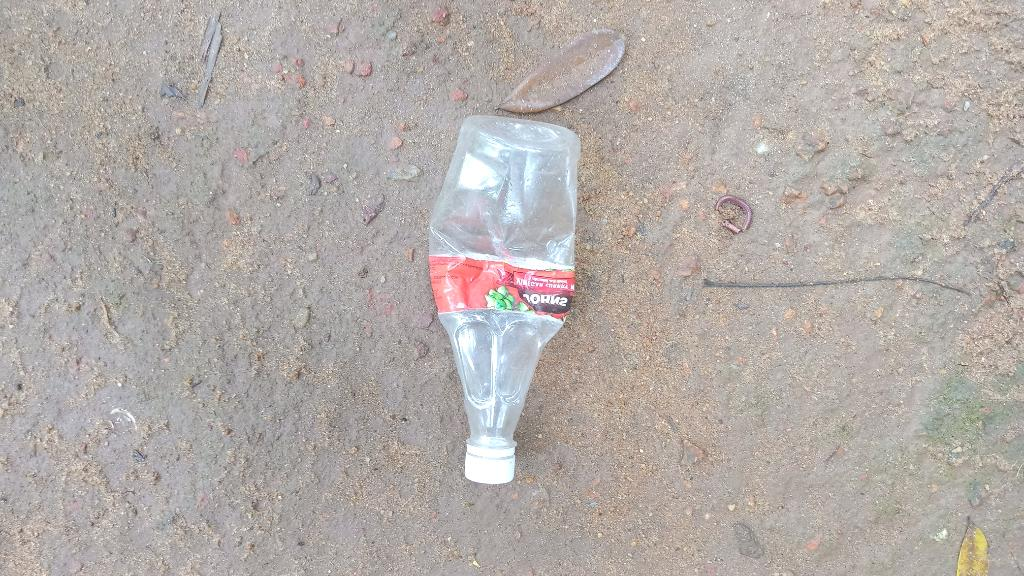garbage: (404, 101, 599, 502)
